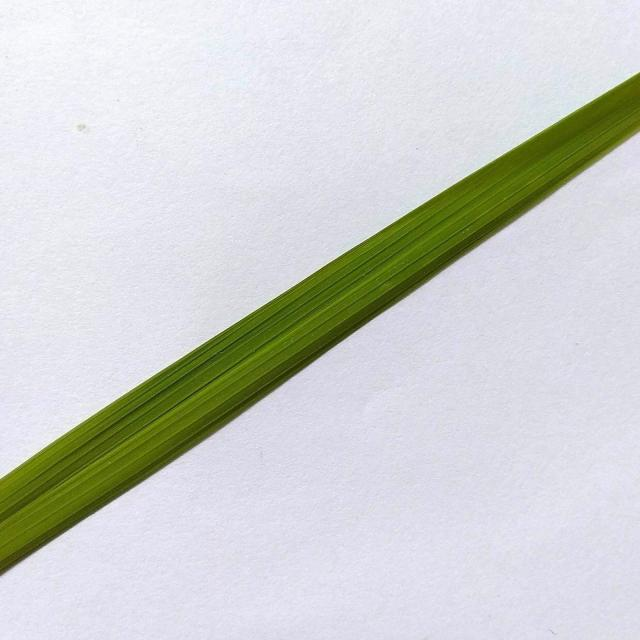healthy: (0, 70, 640, 578)
